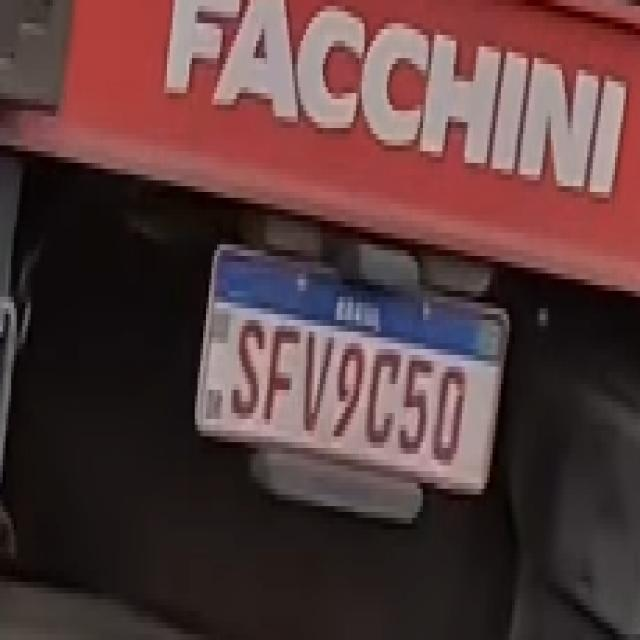Placa_mercosul_carro: (197, 248, 509, 496)
